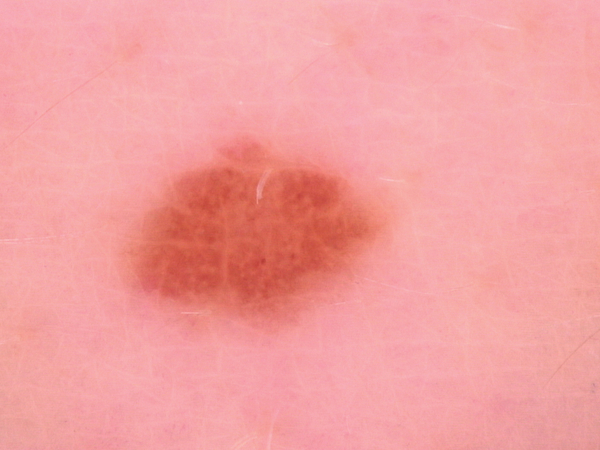Detected Lesion: (122, 133, 388, 317)
